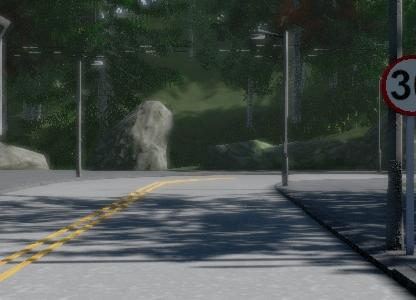Speed_30: (379, 52, 416, 119)
